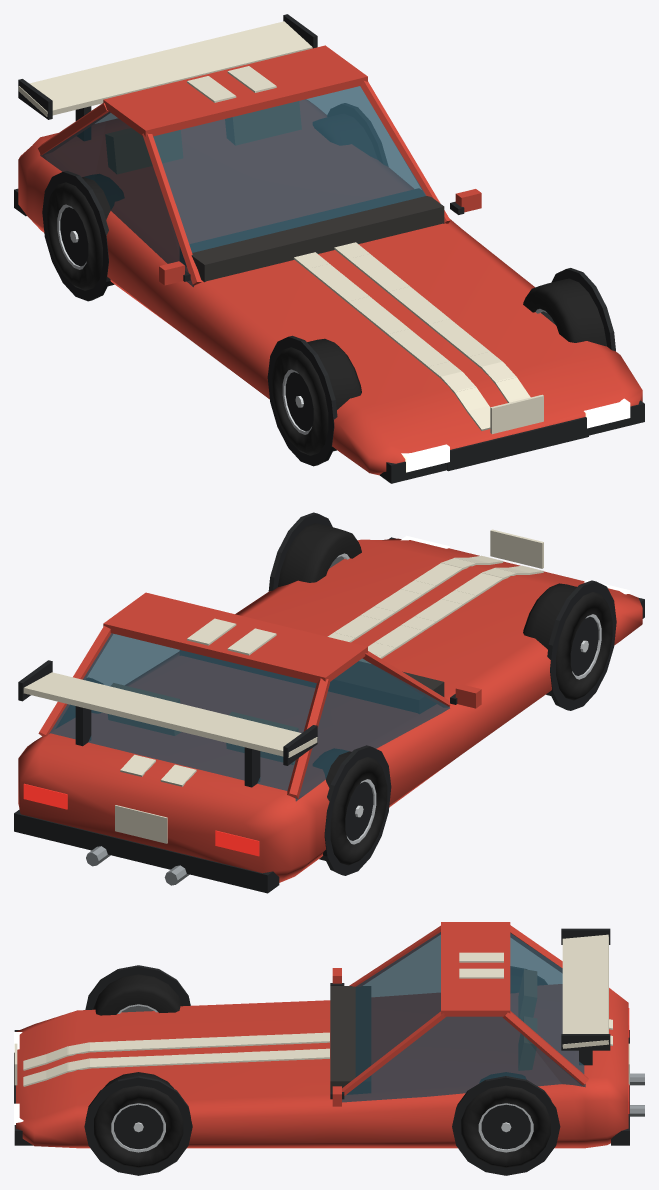
The model's file is falcon-super.glb.
3 views of the same model, one above another, from view 1: azimuth 30°, elevation 25°; view 2: azimuth 150°, elevation 25°; view 3: azimuth 270°, elevation 25° (orthographic). The views are drawn at different scales.
Visible parts, largest first — view 1: body, wheel_FR, wheel_RR, wheel_FL, plate_F, wheel_RL, headlight_R, headlight_L; view 2: body, wheel_FR, wheel_RR, wheel_FL, plate_F, plate_R, taillight_L, taillight_R; view 3: body, wheel_FL, wheel_RL, wheel_FR.
Boxes of the visible parts, x1,y1,x2,y2 form: body: (14, 14, 644, 483); wheel_FR: (271, 338, 361, 455); wheel_RR: (46, 174, 123, 290); wheel_FL: (523, 278, 606, 346); plate_F: (490, 394, 543, 434); wheel_RL: (313, 114, 376, 158); headlight_R: (401, 444, 449, 472); headlight_L: (584, 398, 630, 428); body: (14, 512, 644, 893); wheel_FR: (523, 583, 612, 700); wheel_RR: (313, 749, 387, 865); wheel_FL: (278, 523, 361, 586); plate_F: (490, 529, 543, 568); plate_R: (115, 805, 167, 843); taillight_L: (23, 783, 67, 809); taillight_R: (215, 830, 259, 856); body: (14, 922, 629, 1175); wheel_FL: (94, 1072, 183, 1167); wheel_RL: (461, 1072, 550, 1167); wheel_FR: (93, 974, 182, 1015).
Size of the model in its own units: 2.19 by 1.25 by 4.63.
